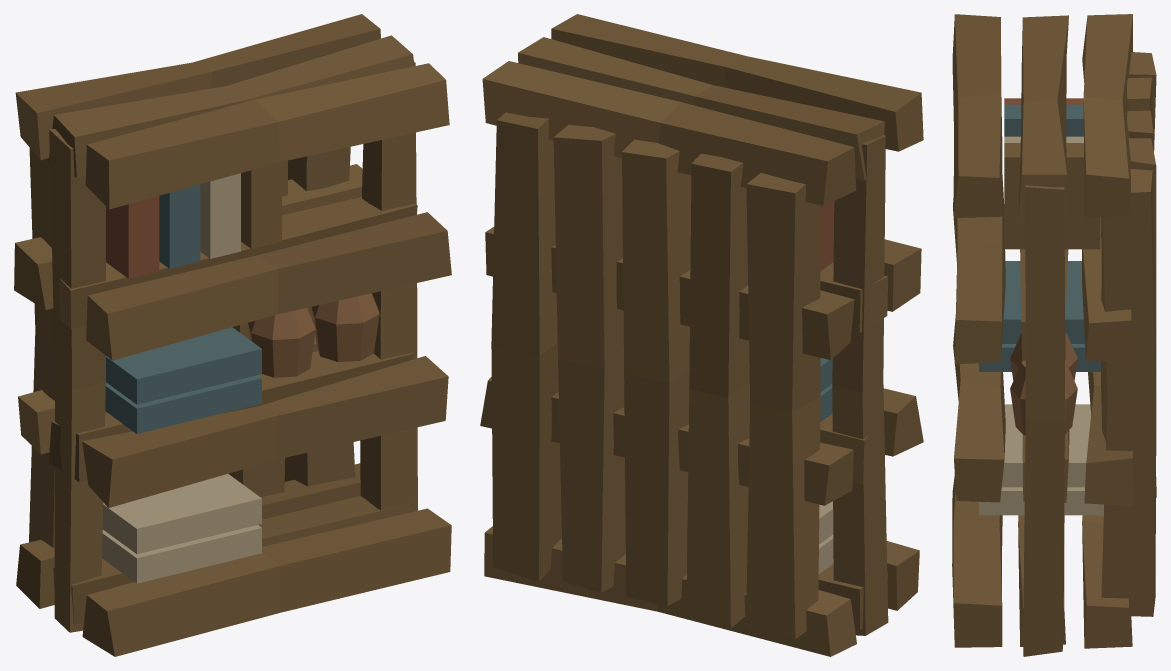
Rendered from home_Linen_cupboard.glb.
The picture shows the model from 3 angles, left to right: view 1: azimuth 30°, elevation 25°; view 2: azimuth 150°, elevation 25°; view 3: azimuth 270°, elevation 25°; orthographic projection. The views are drawn at different scales.
Parts seen in each view (by area): view 1: home_Linen_cupboard; view 2: home_Linen_cupboard; view 3: home_Linen_cupboard.
Part boxes in pixels (left/top/right/bottom): home_Linen_cupboard: left=14, top=14, right=451, bottom=656; home_Linen_cupboard: left=480, top=14, right=923, bottom=656; home_Linen_cupboard: left=952, top=14, right=1156, bottom=656.
Size of the model in its own units: 1.36 by 1.89 by 0.7246.
